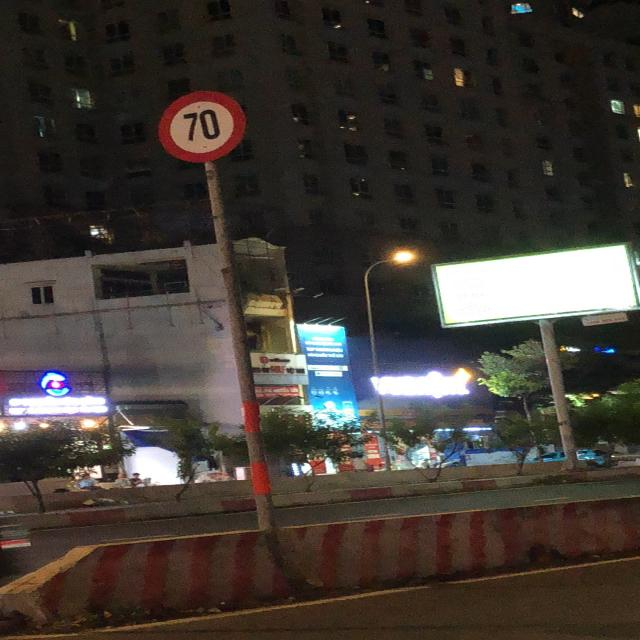Bien bao toc do toi da cho phep: (156, 80, 254, 162)
